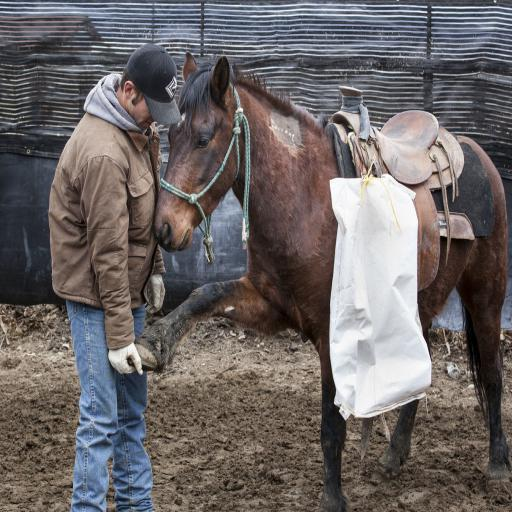horse: (126, 53, 512, 512)
